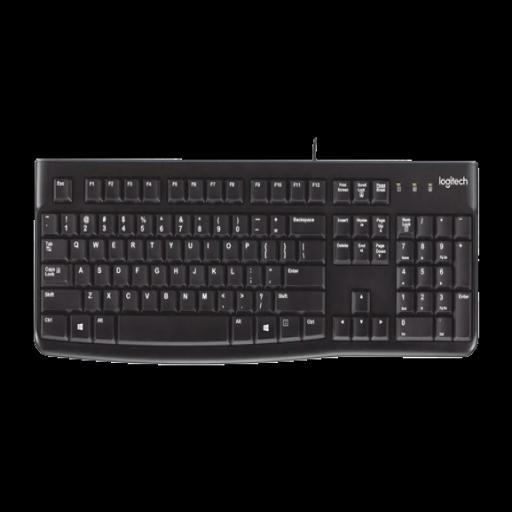keyboard: (34, 158, 478, 362)
